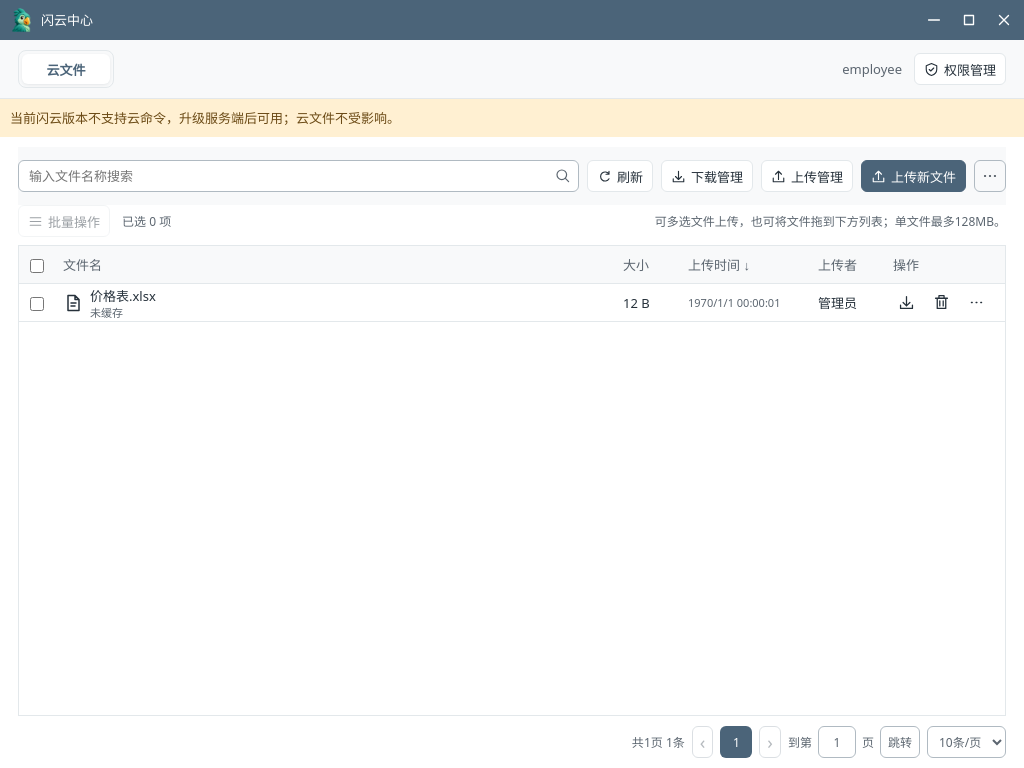
旧版闪云保持管理员固定授权，并提示升级后配置用户名授权
Expected: the text "价格表.xlsx" is shown, left=90, top=286, right=156, bottom=305
Expected: the button "上传新文件" is shown, left=861, top=160, right=966, bottom=192
Click the button "权限管理" at coordinates (960, 69), box left=914, top=53, right=1006, bottom=85
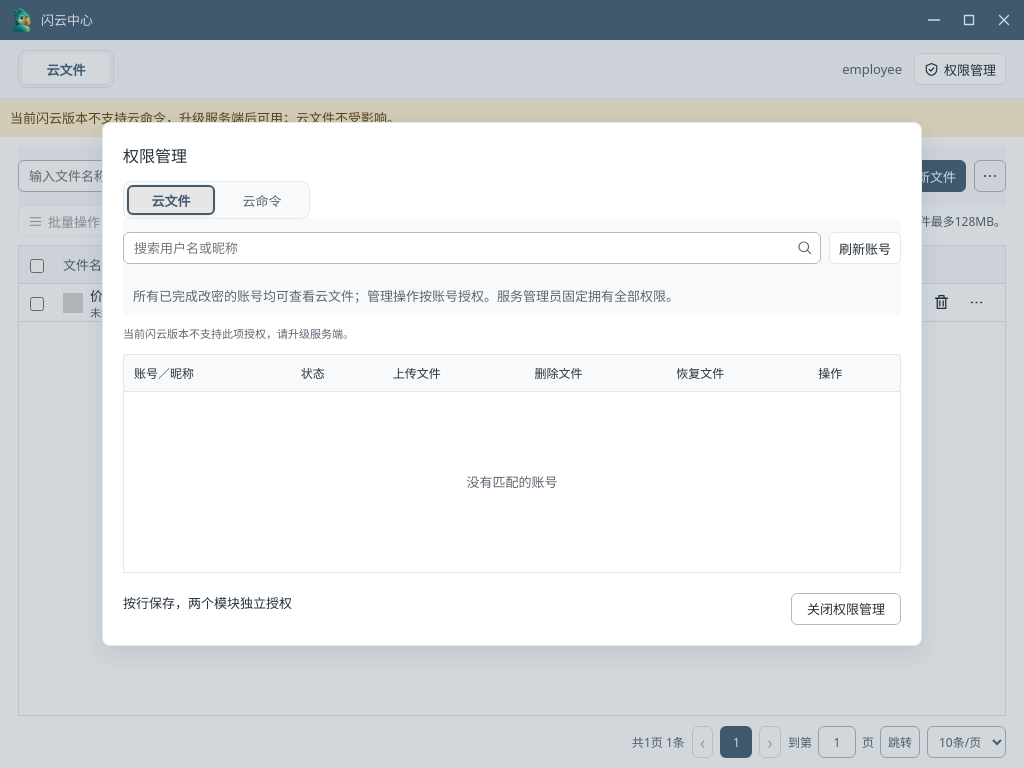
Now the text "当前闪云版本不支持此项授权，请升级服务端。" is shown, box left=123, top=326, right=354, bottom=341
